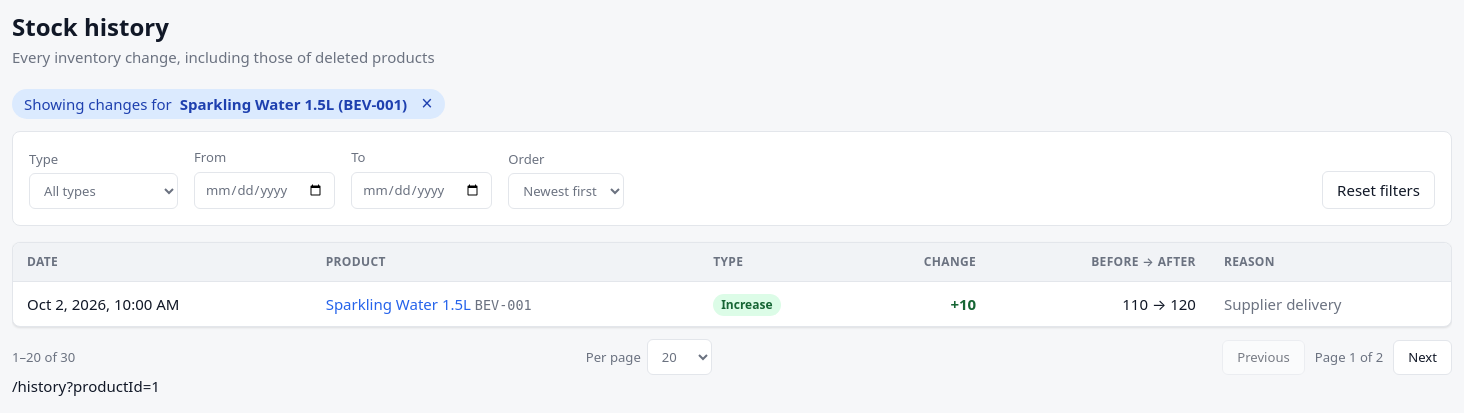
it: HistoryPage › shows and clears the product filter using the snapshot name
The image size is (1464, 413).
Expected: the text "Sparkling Water 1.5L (BEV-001)" is shown, [180, 92, 407, 115]
Click the button named "Show all products": (427, 104) [415, 94, 439, 114]
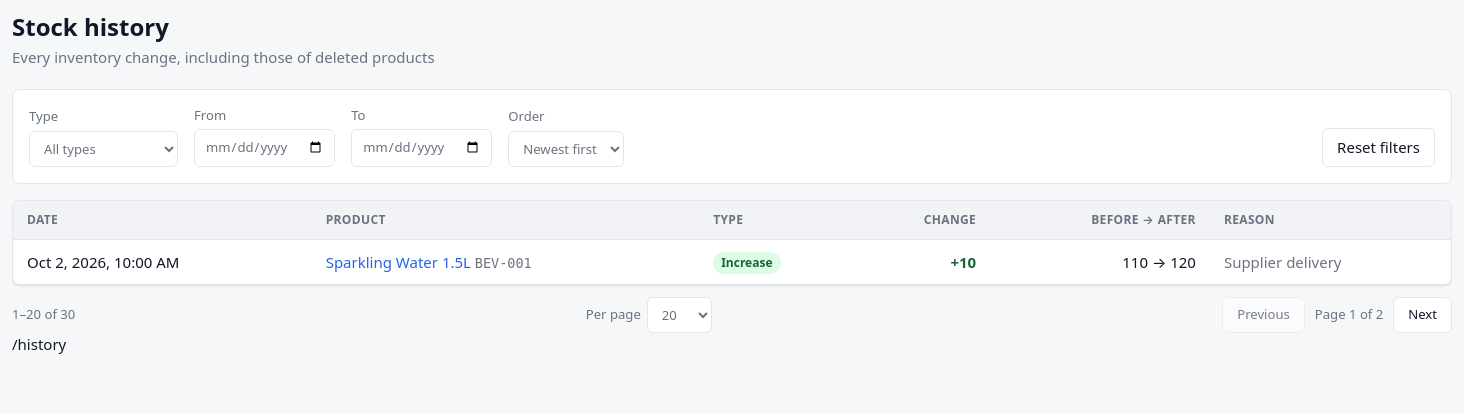
Expected: the text with test id "location" reads "/history", [12, 334, 66, 354]
